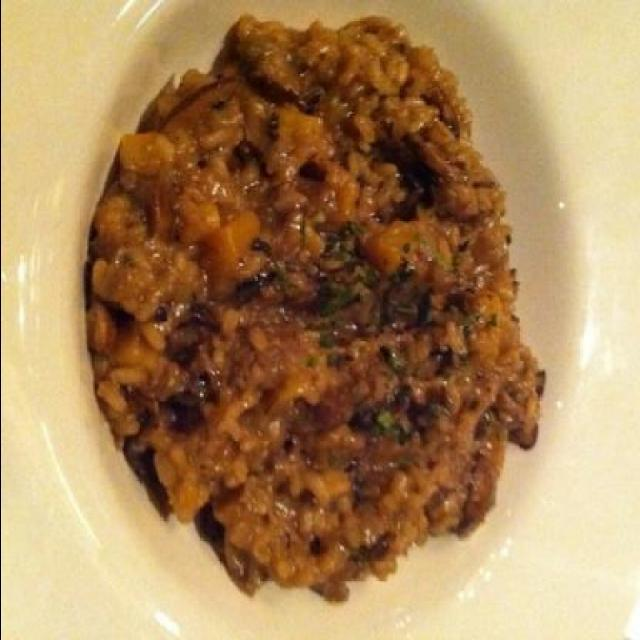Risotto: (90, 20, 514, 589)
